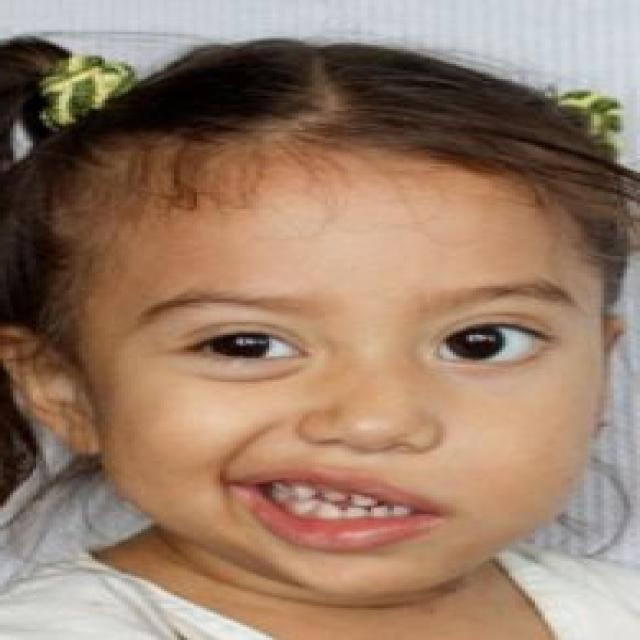stroke_face: (109, 125, 589, 596)
